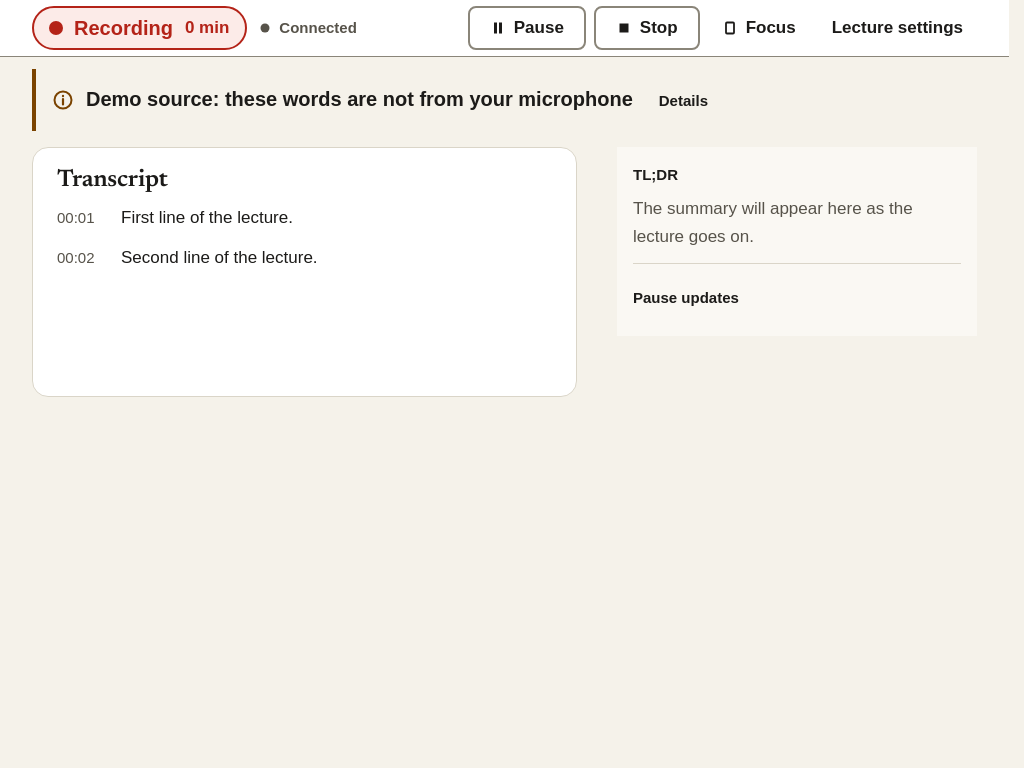
Scenario: Paused state (UX section 3) › AC2 (press path): the track is stopped before the Paused panel appears
Click the button "Pause" at (527, 28), box left=468, top=6, right=586, bottom=50
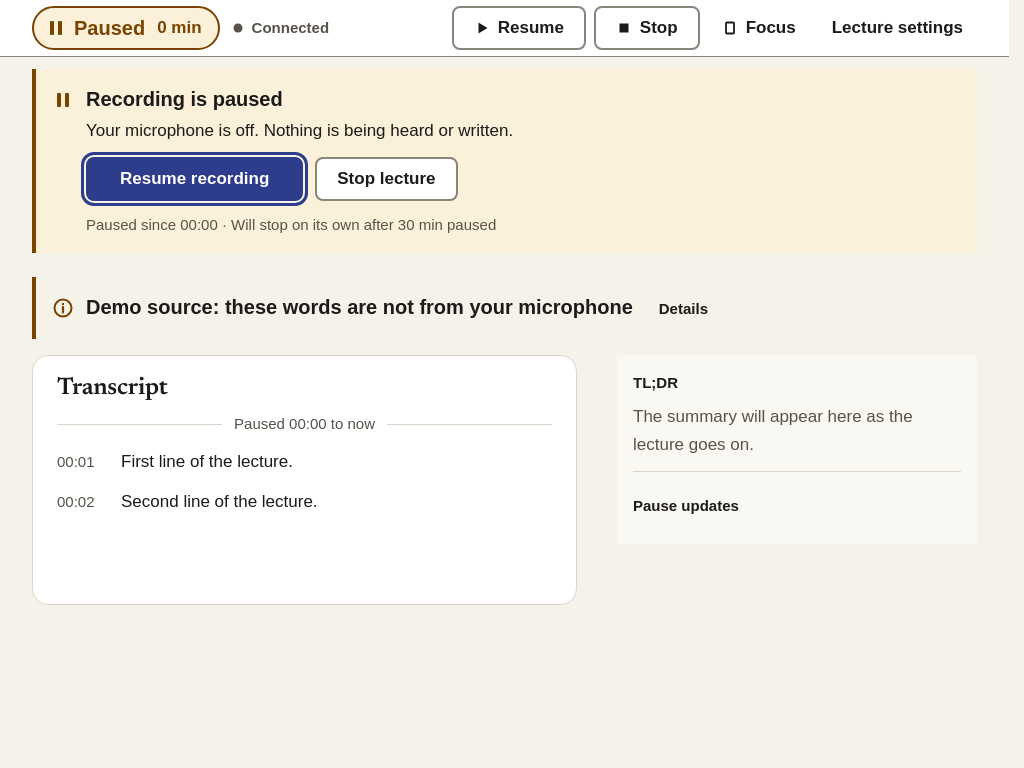
Now the element "Recording is paused" is shown, box left=32, top=69, right=977, bottom=253
